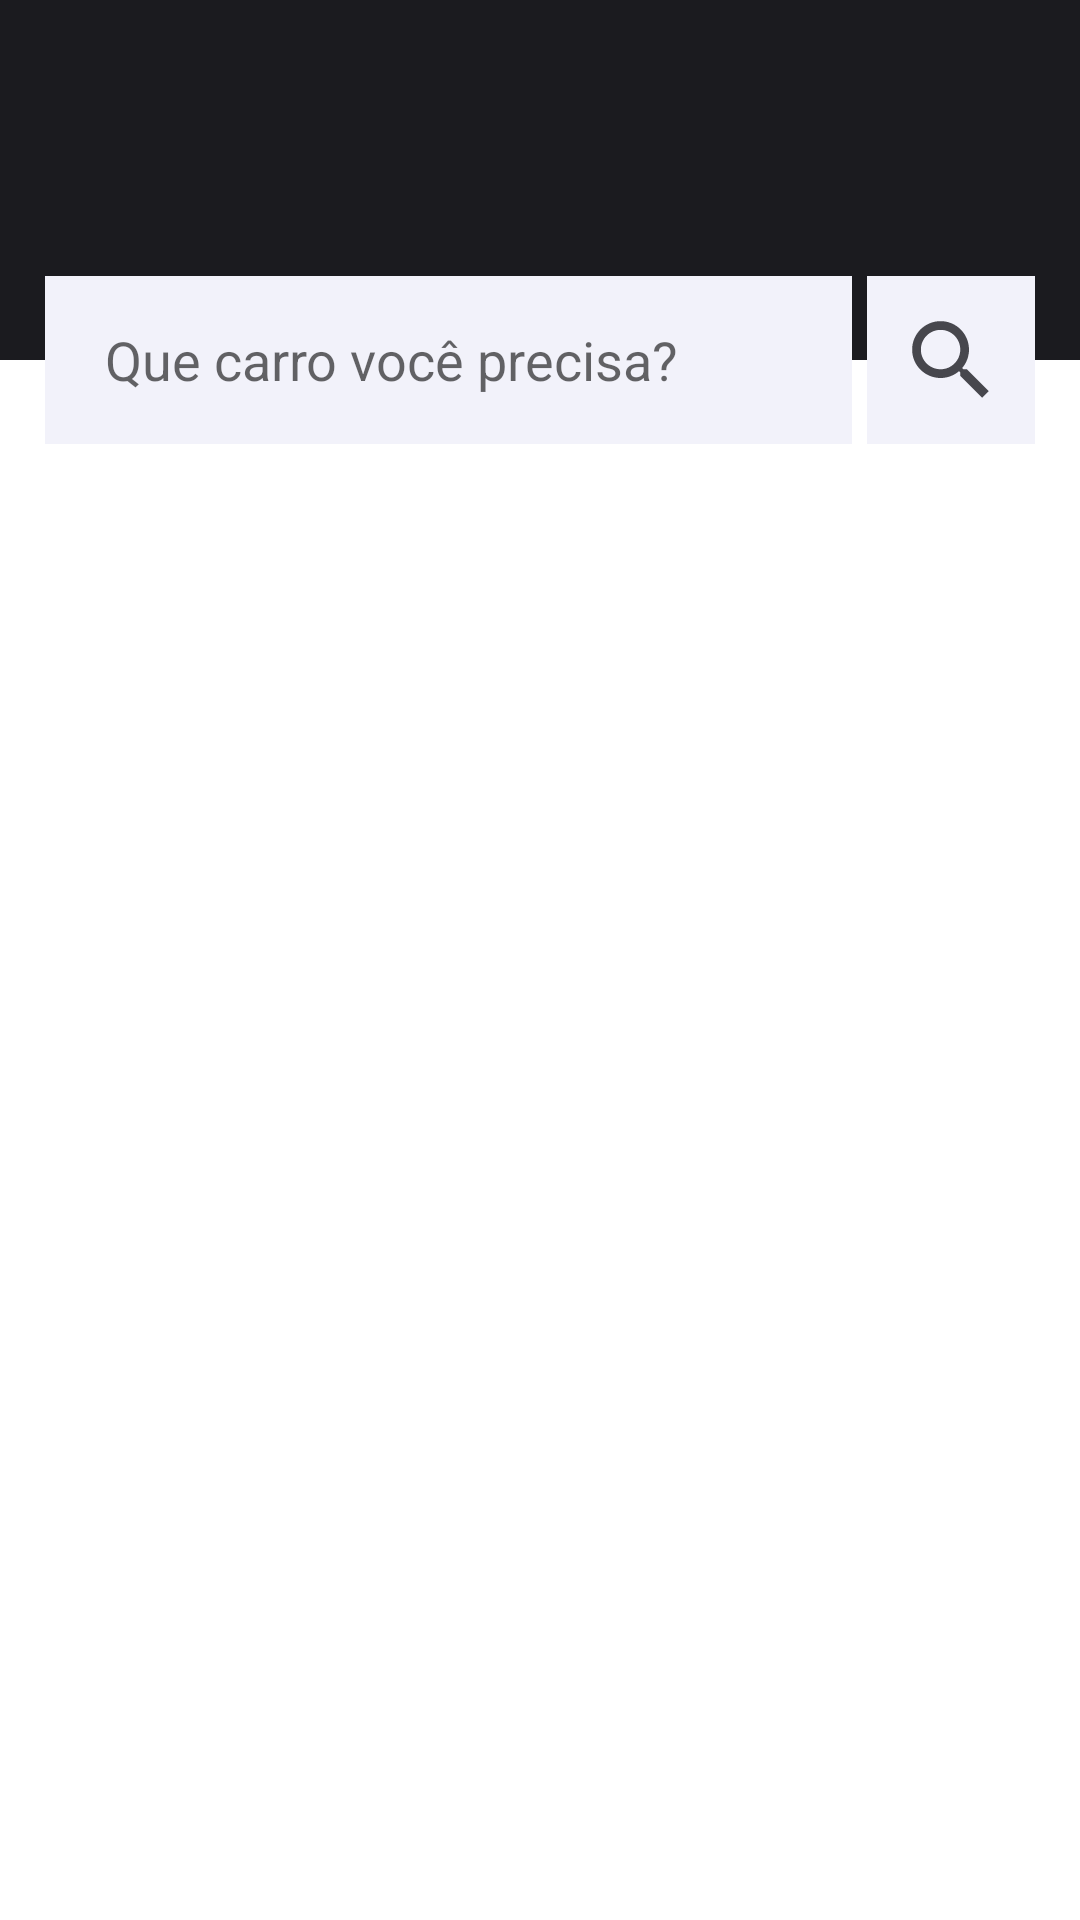

Point at icon controls on the screen. Image size 1080px x 1920px, points as (x=x, y=y).
search: (x=950, y=359)
